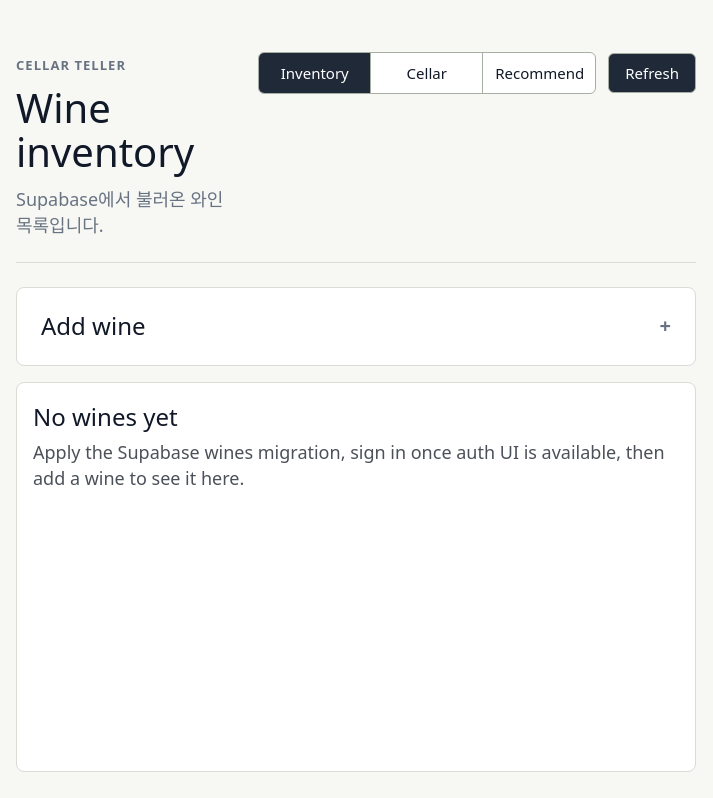
Test: App › blocks invalid form values before saving
The width and height of the screenshot is (713, 798).
Click the button "Add wine": (93, 326) [41,309,146,342]
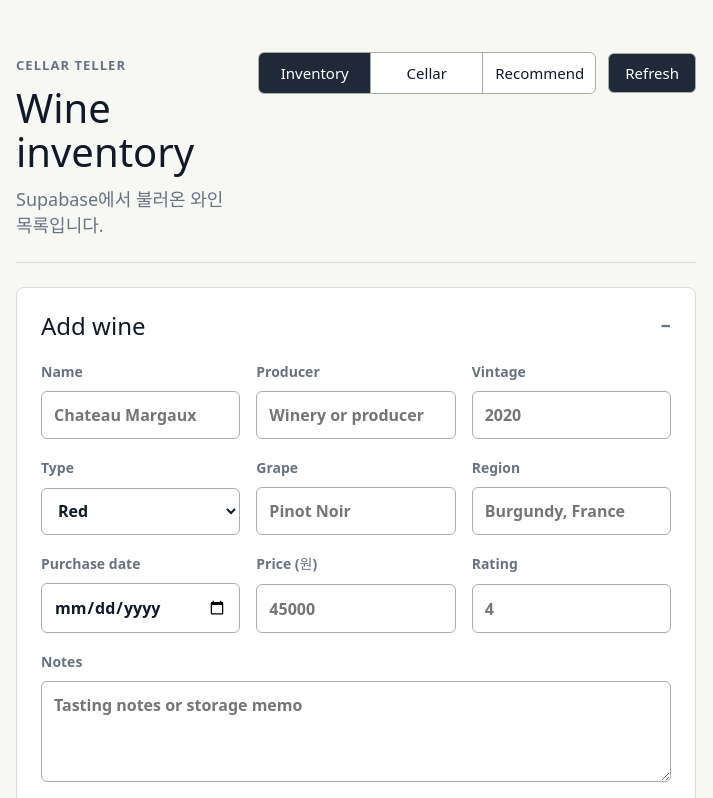
In the field labelled "Name": (141, 415) [41,391,240,439], type "Ridge Estate"
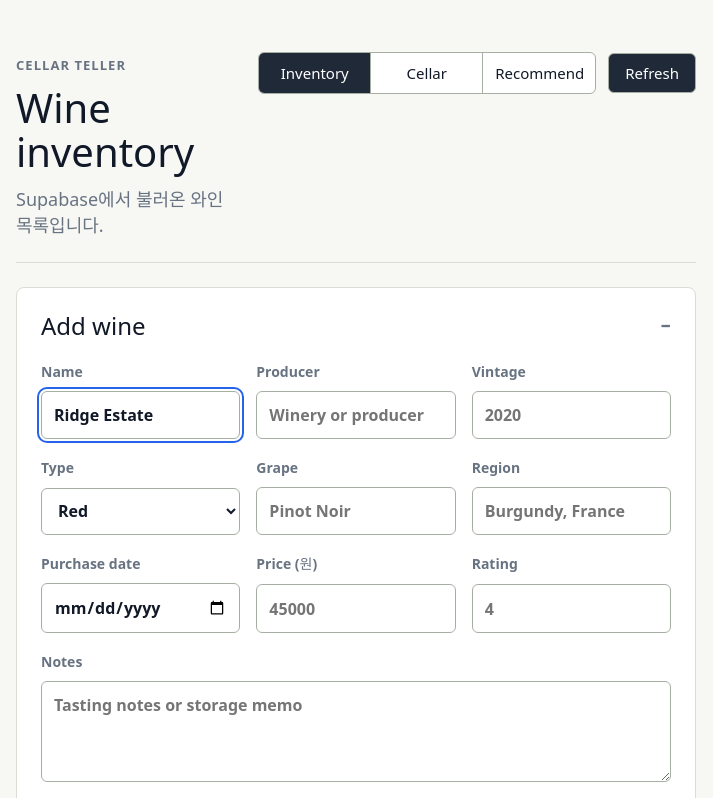
In the number field labelled "Vintage": (571, 415) [472,391,671,439], type "1700"
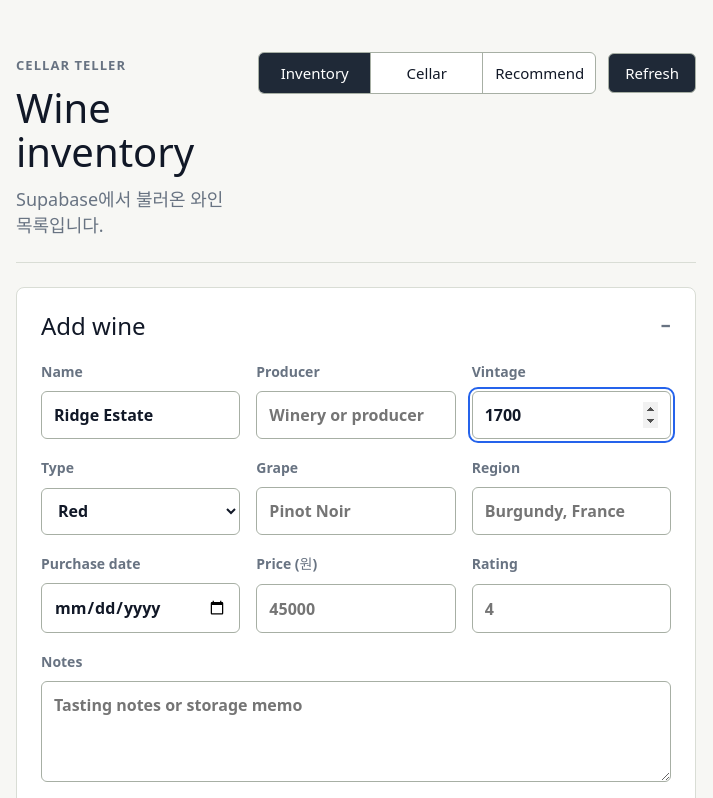
In the number field labelled "Price (원)": (356, 609) [256,584,456,633], type "-1"
(page scrolled)
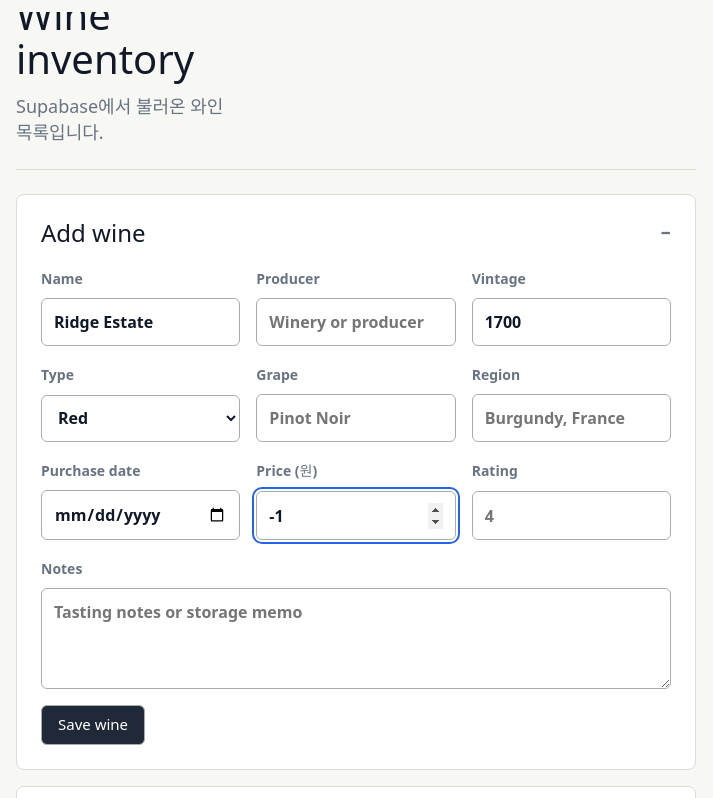
Click the button "Save wine": (93, 724) [41,704,145,744]
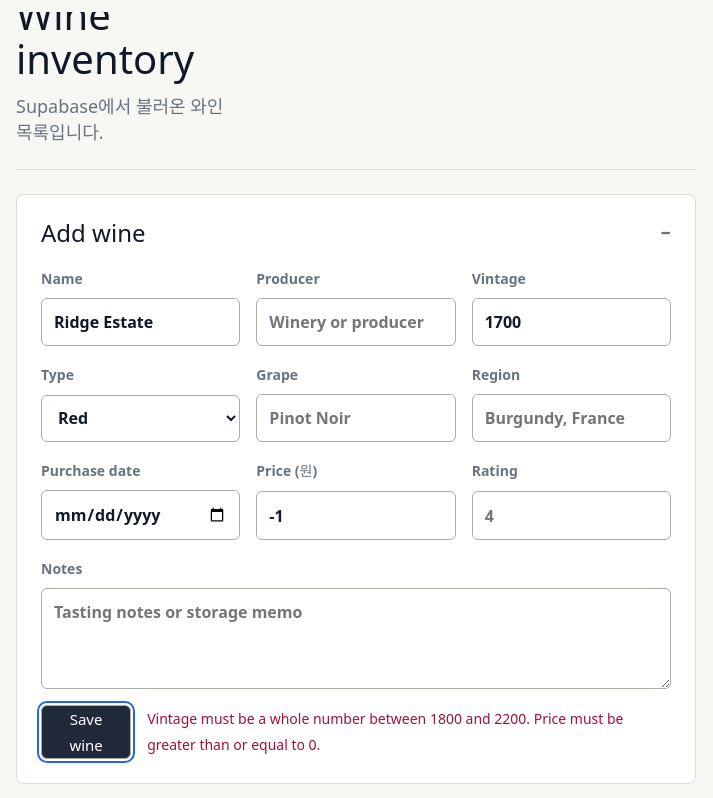
expect the message shows "Vintage must be a whole number between 1800 and 2200": met, box [147,708,624,754]
expect the message shows "price must be greater than or equal to 0": met, box [147,708,624,754]
